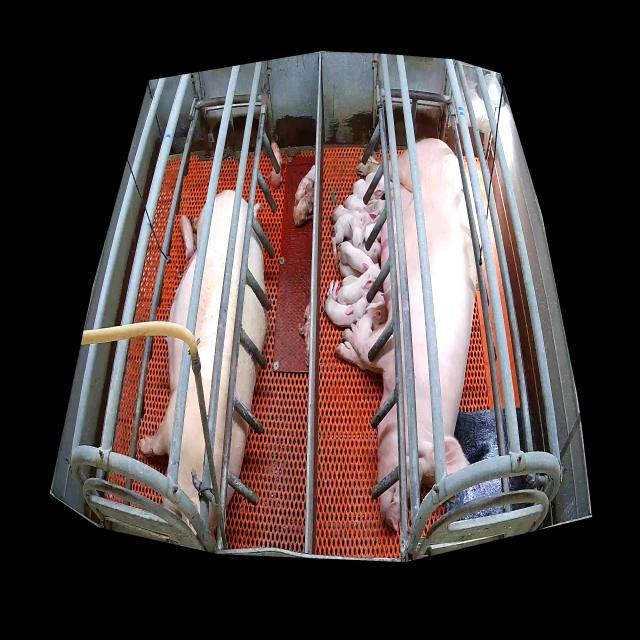pig: (333, 139, 482, 532), (138, 189, 267, 538), (325, 279, 367, 326), (337, 264, 380, 305), (332, 215, 365, 257), (356, 298, 389, 337), (338, 240, 374, 275), (345, 195, 386, 220), (330, 204, 374, 226), (294, 163, 315, 208), (294, 182, 314, 226), (298, 302, 310, 368), (180, 214, 194, 262), (270, 143, 283, 191), (353, 179, 381, 200), (366, 173, 385, 200), (363, 239, 382, 261), (365, 224, 382, 243)
